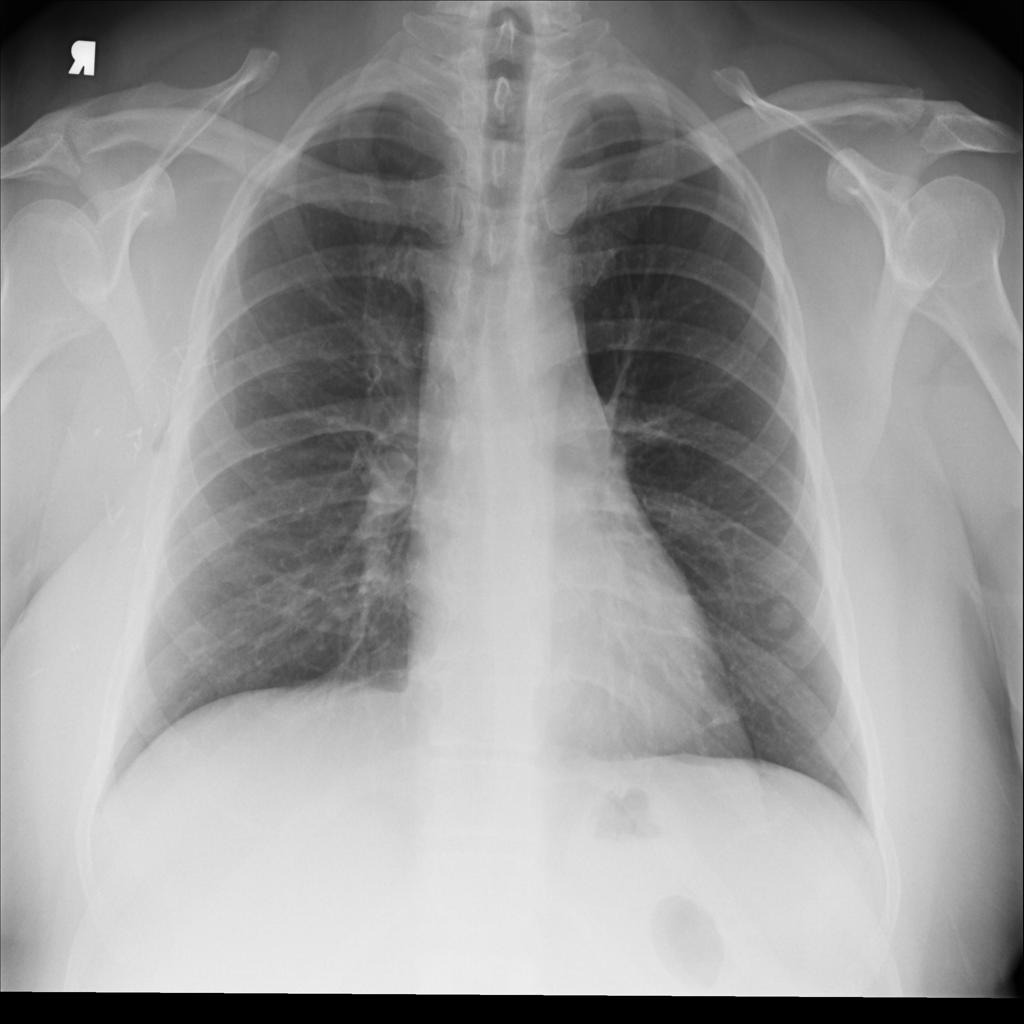nodule: (749, 575, 817, 648)
